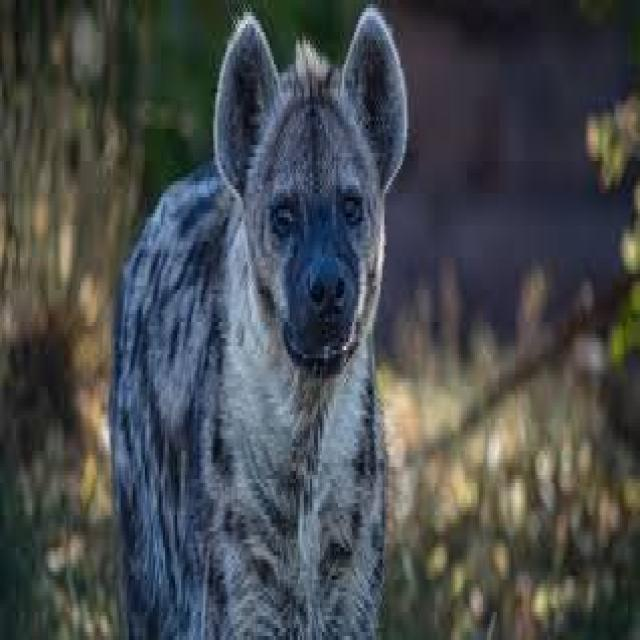Hyena: (116, 18, 412, 640)
